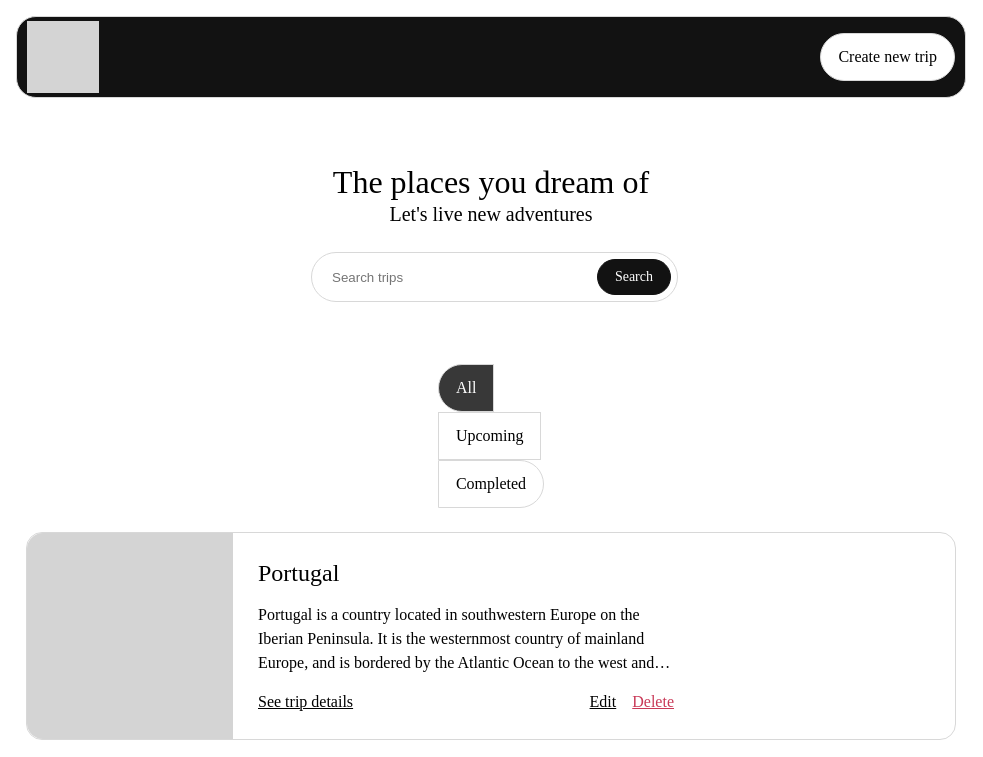
it: Landing › searches by text
Expected: the text "Portugal" is shown, left=258, top=560, right=339, bottom=586
Type "Hawaii" into the field with placeholder "Search trips" at (494, 277), box left=311, top=252, right=678, bottom=302
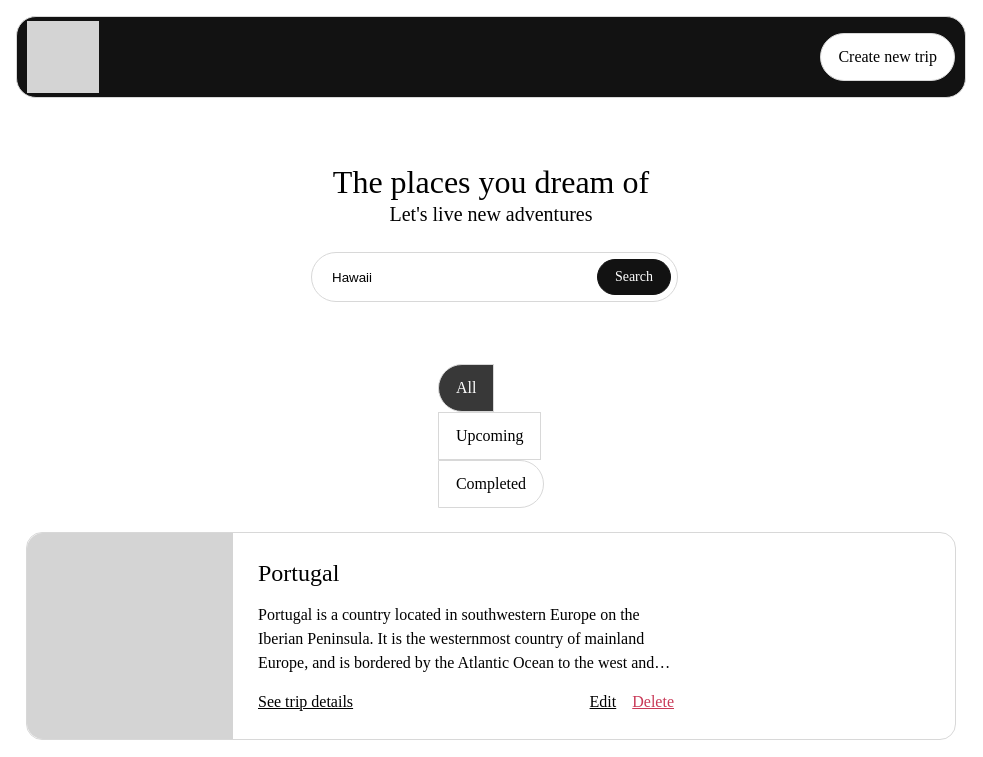
Click the button "Search" at (634, 277), box left=597, top=259, right=671, bottom=295
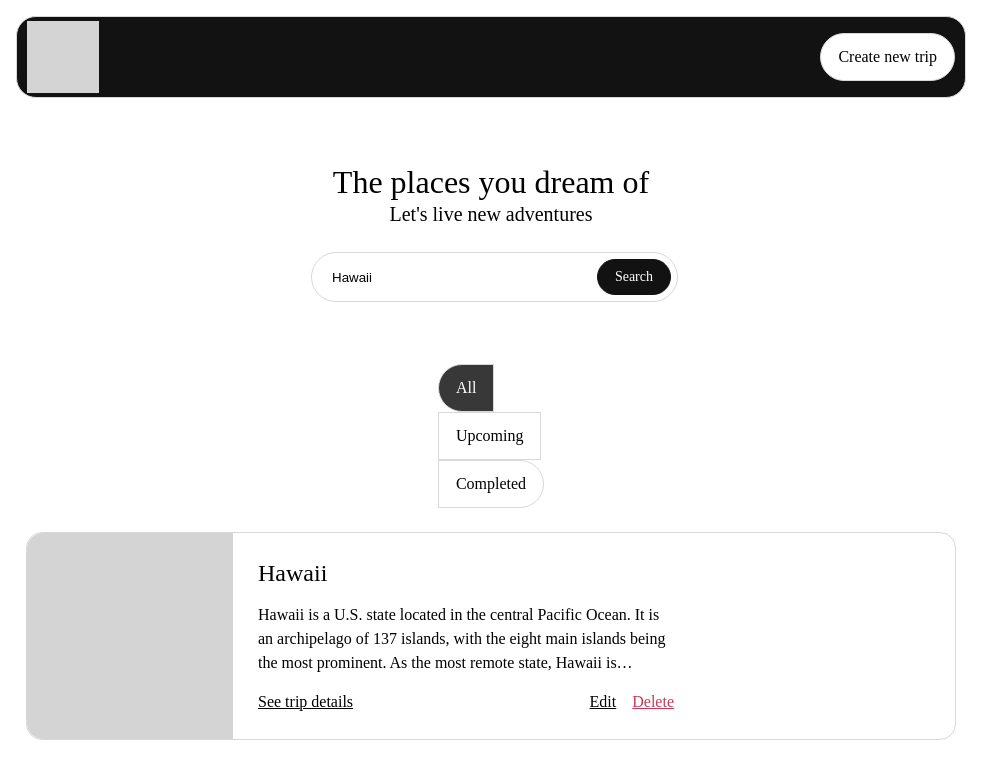
Expected: the text "Portugal" is gone
